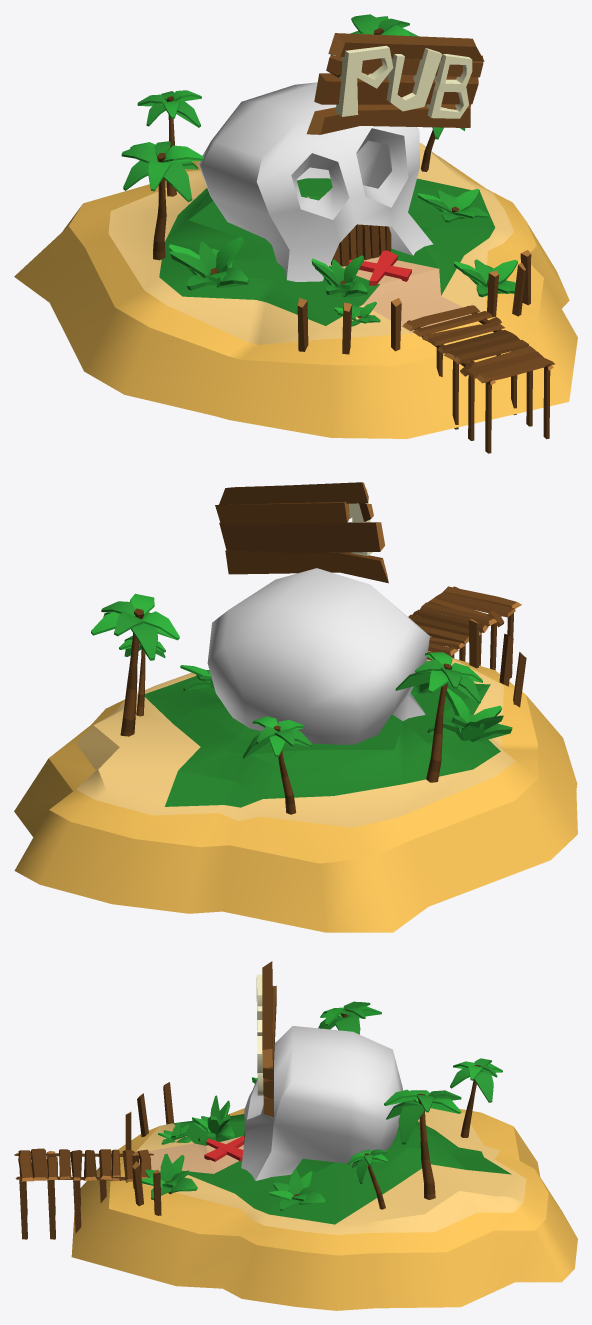
File: Island_end.fbx
3 views of the same model, one above another, from view 1: azimuth 30°, elevation 25°; view 2: azimuth 150°, elevation 25°; view 3: azimuth 270°, elevation 25° (orthographic). The views are drawn at different scales.
Visible parts, largest first — view 1: Island_end, Skull, Sign, Pier_1, Palm_3, Spikes, Bush_6, Door, Palm_2, Bush_3, Bush_5, Bush_1 (+2 smaller); view 2: Island_end, Skull, Sign, Pier_1, Palm_4, Palm_3, Bush_6, Palm_2, Spikes, Palm_1; view 3: Island_end, Skull, Pier_1, Palm_4, Sign, Spikes, Palm_2, Bush_5, Bush_1, Palm_3, Bush_3, Palm_1 (+1 smaller).
Boxes of the visible parts, x1,y1,x2,y2 form: Island_end: [14, 143, 577, 438]; Skull: [198, 82, 433, 281]; Sign: [306, 33, 484, 134]; Pier_1: [402, 305, 554, 453]; Palm_3: [121, 141, 203, 260]; Spikes: [297, 250, 531, 354]; Bush_6: [169, 236, 249, 290]; Door: [331, 224, 391, 266]; Palm_2: [137, 90, 201, 196]; Bush_3: [311, 255, 368, 297]; Bush_5: [418, 188, 488, 222]; Bush_1: [454, 259, 517, 297]; Island_end: [14, 658, 577, 932]; Skull: [207, 568, 429, 744]; Sign: [215, 482, 388, 583]; Pier_1: [408, 586, 521, 678]; Palm_4: [91, 593, 179, 736]; Palm_3: [395, 652, 482, 782]; Bush_6: [427, 688, 512, 741]; Palm_2: [243, 716, 311, 814]; Spikes: [469, 619, 526, 707]; Palm_1: [119, 635, 165, 716]; Island_end: [71, 1108, 577, 1310]; Skull: [241, 1026, 402, 1180]; Pier_1: [14, 1148, 153, 1239]; Palm_4: [384, 1089, 461, 1199]; Sign: [256, 961, 276, 1117]; Spikes: [125, 1082, 174, 1215]; Palm_2: [450, 1058, 502, 1137]; Bush_5: [269, 1169, 325, 1210]; Bush_1: [141, 1153, 197, 1199]; Palm_3: [318, 1001, 381, 1034]; Bush_3: [192, 1095, 234, 1141]; Palm_1: [348, 1149, 387, 1209].
Bounding box in the file's own units: 2541 × 1607 × 3240.
1 material, 1 textured.
